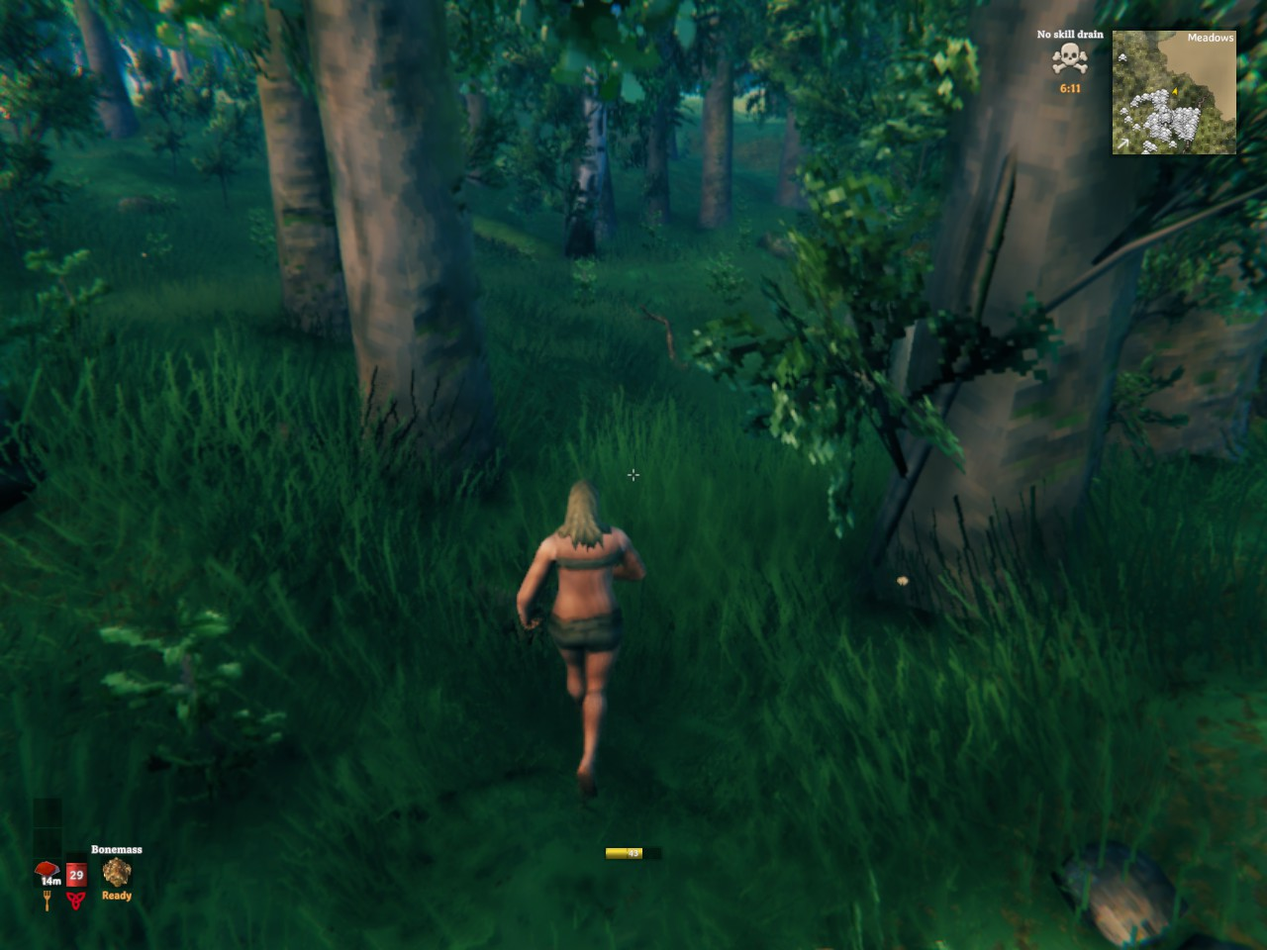Branch: (640, 307, 684, 368)
Stone: (1052, 842, 1187, 947)
